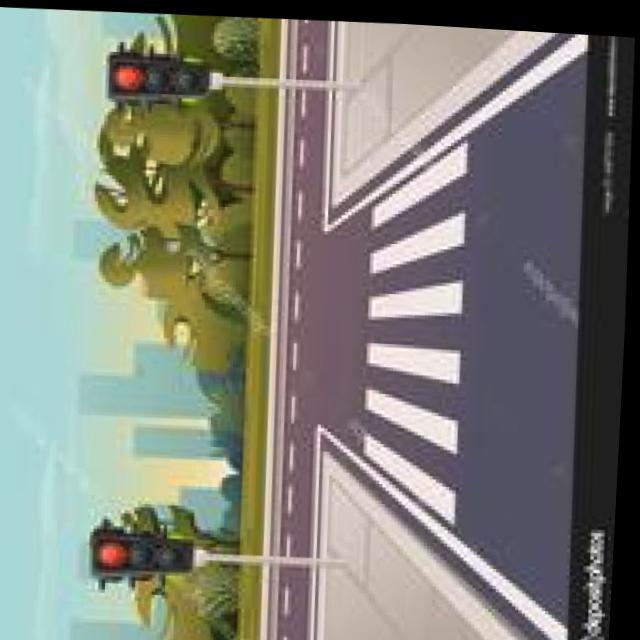red_light: (94, 502, 140, 588), (97, 46, 152, 105)
